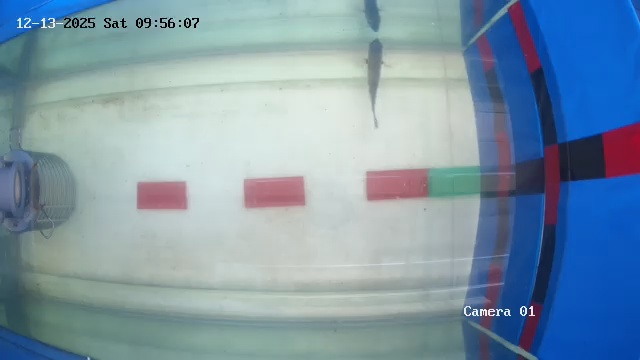fish: (352, 36, 397, 127)
